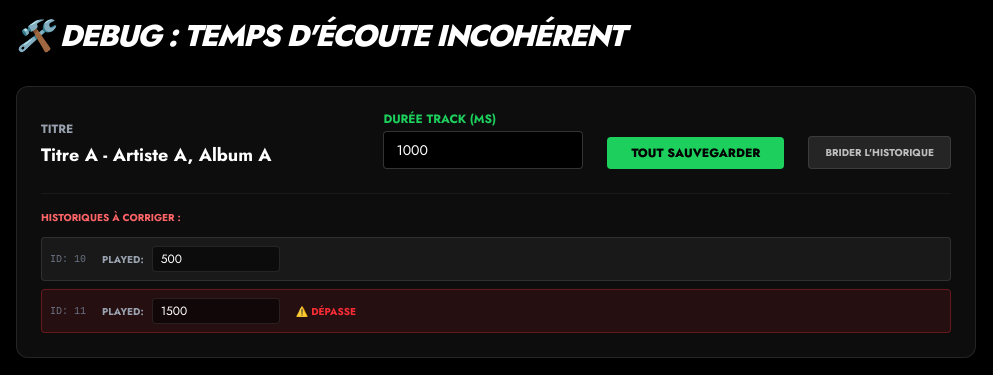
ConflitsPage › Brider l'historique force ms_played à la durée pour tous les historiques
Click the button "Brider l'historique" at (880, 152), box [808,136,951,169]
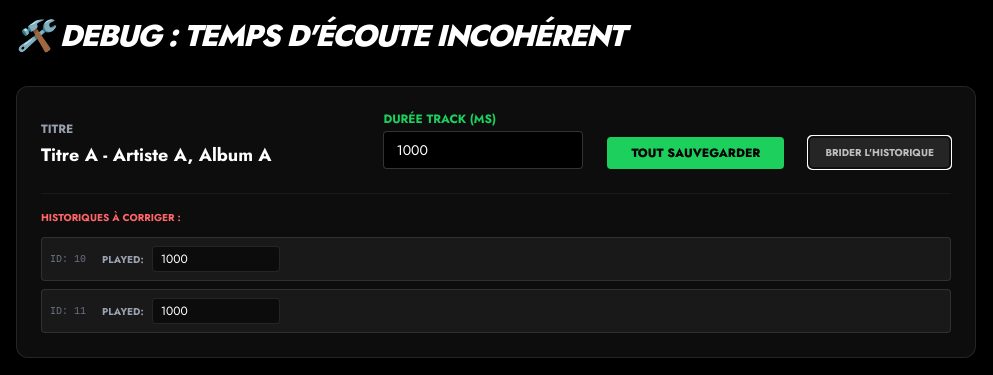
Now the text "DÉPASSE" is gone
